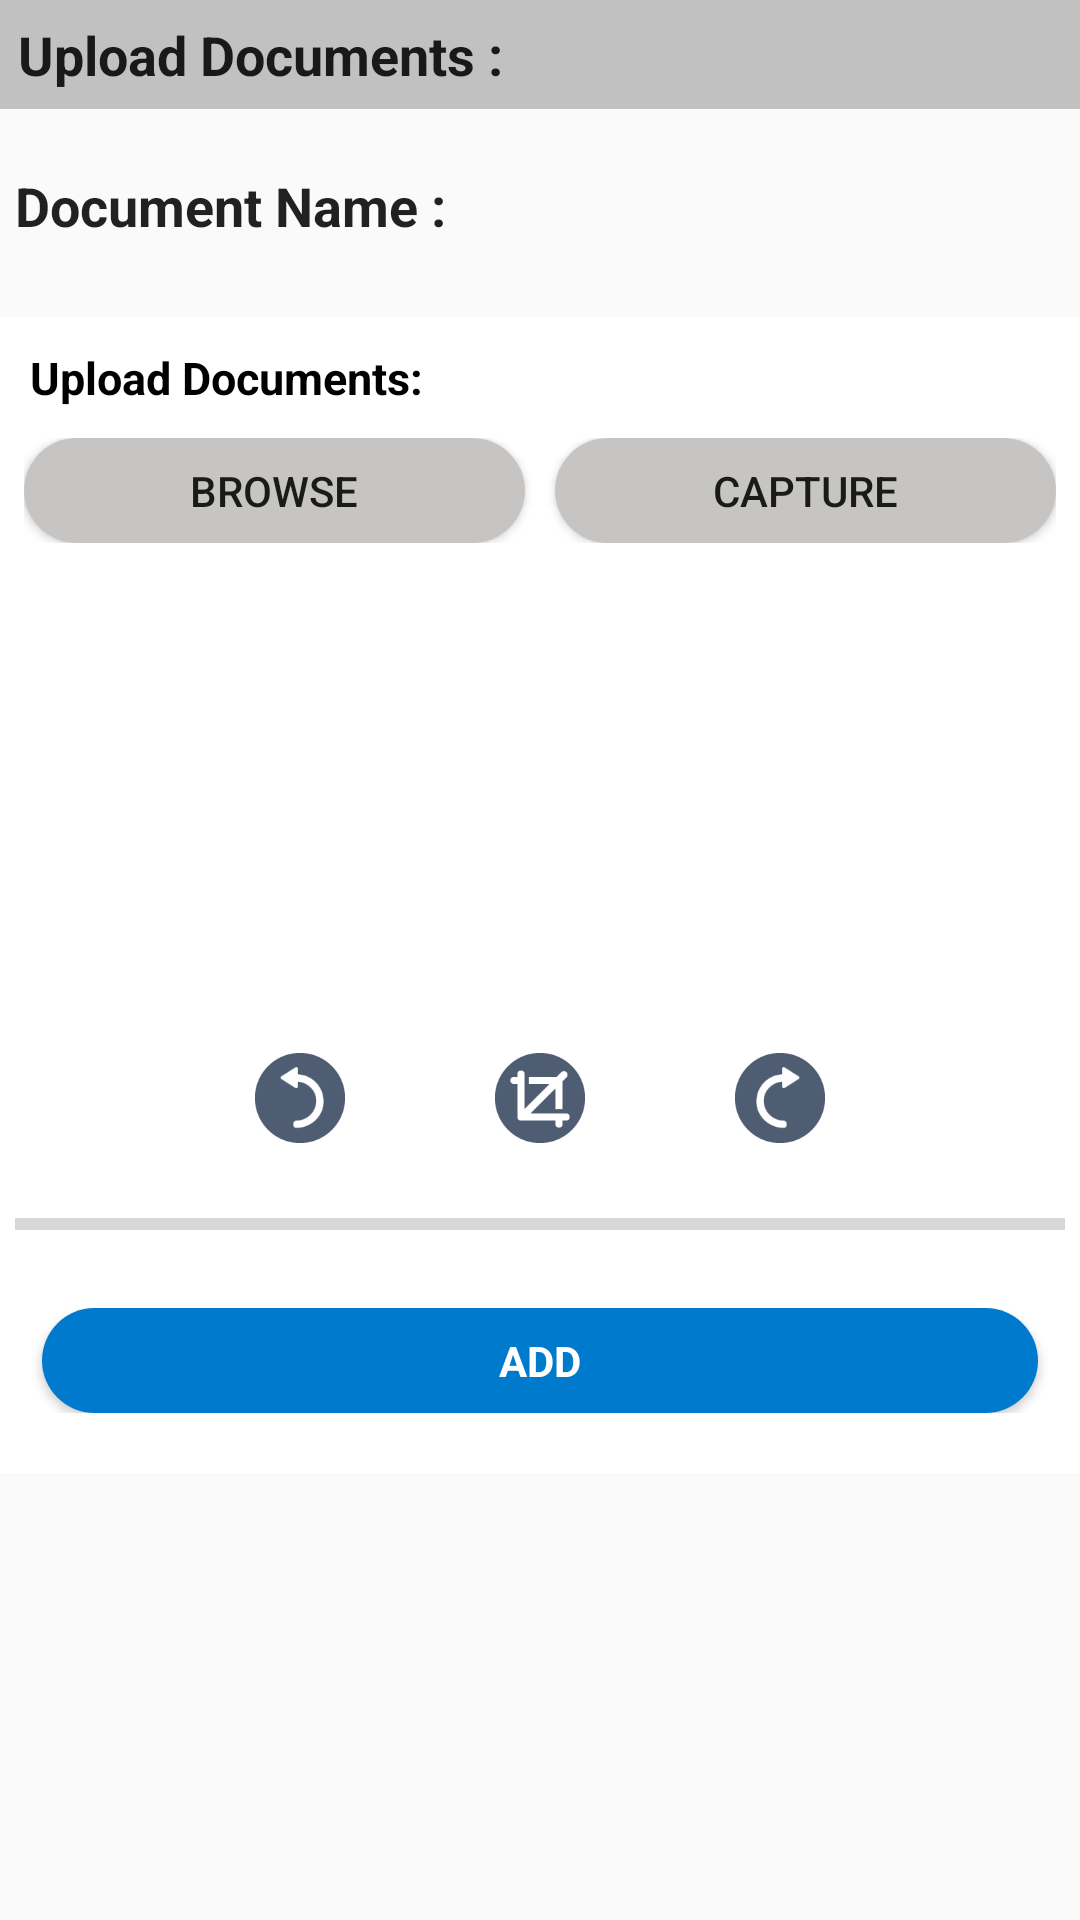

Icon bounding boxes for this 1080*1920 phone screenshot, format [left=x1, top=y1, right=x2, bottom=y2]:
crop: [left=495, top=1053, right=585, bottom=1143]
rotate left: [left=255, top=1053, right=345, bottom=1143]
rotate right: [left=735, top=1053, right=825, bottom=1143]
